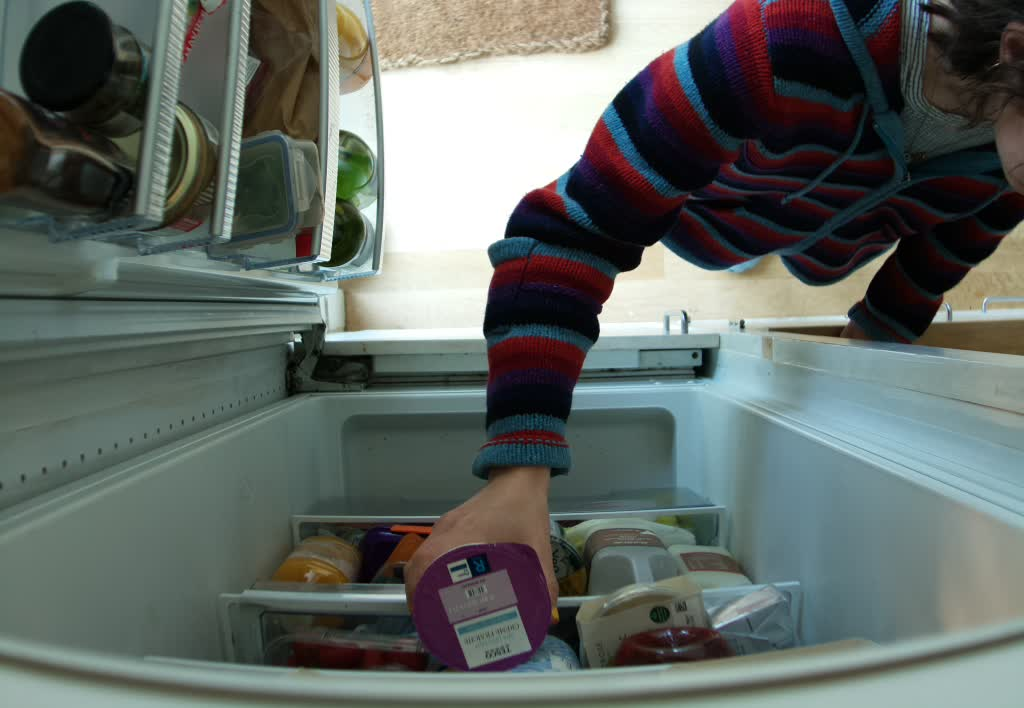cream: (408, 543, 549, 678)
